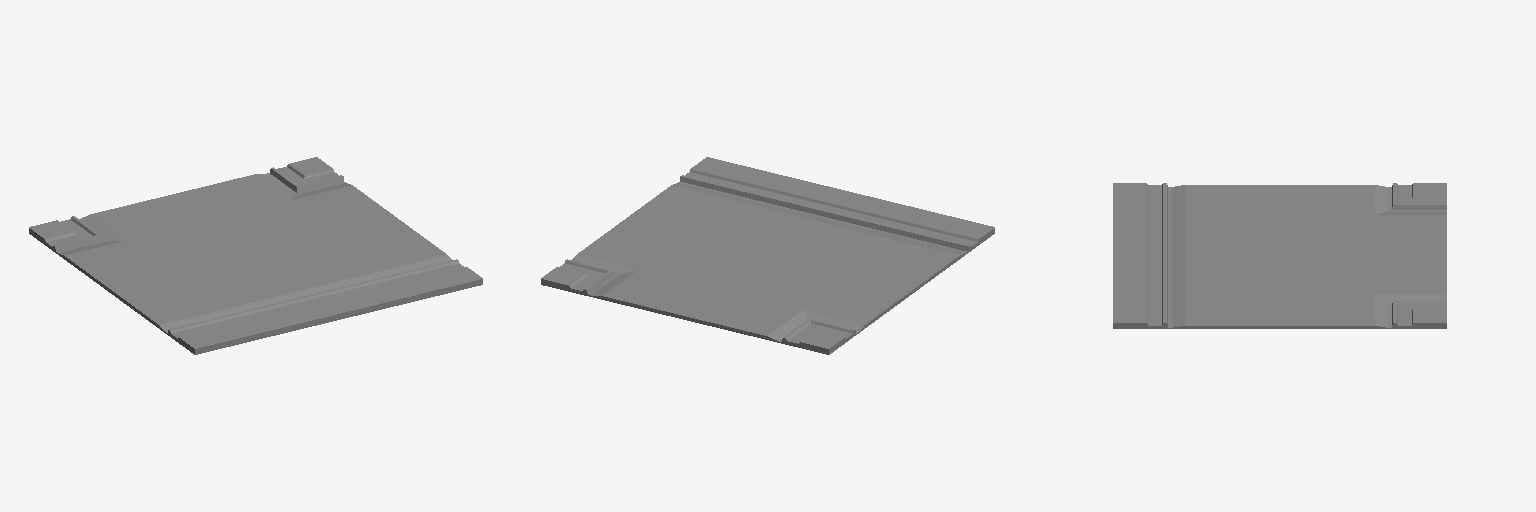
The model's file is Road-2-Lane-T.obj.
The picture shows the model from 3 angles: view 1: azimuth 30°, elevation 25°; view 2: azimuth 150°, elevation 25°; view 3: azimuth 270°, elevation 25°; orthographic projection.
Parts seen in each view (by area): view 1: Road_2_Lane_T; view 2: Road_2_Lane_T; view 3: Road_2_Lane_T.
Part boxes in pixels (x1,y1,x2,y2): Road_2_Lane_T: (29, 157, 482, 354); Road_2_Lane_T: (541, 157, 994, 354); Road_2_Lane_T: (1113, 183, 1446, 328).
Bounding box in the file's own units: 3600 × 72 × 3600.